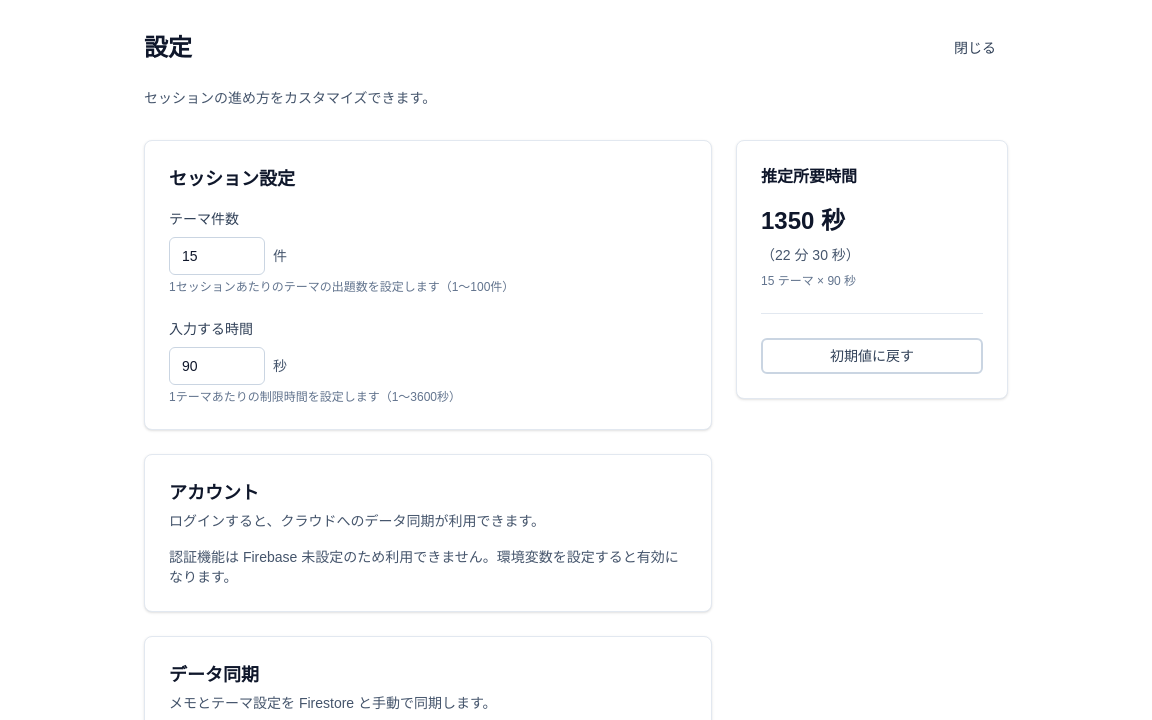
Test: SettingPage › onBlur update › displays update error when updateSettings fails
The image size is (1152, 720).
// 値を変更してblur
Replace the text in the number field labelled "テーマ件数" with "25" at (217, 256), box [169,237,265,275]
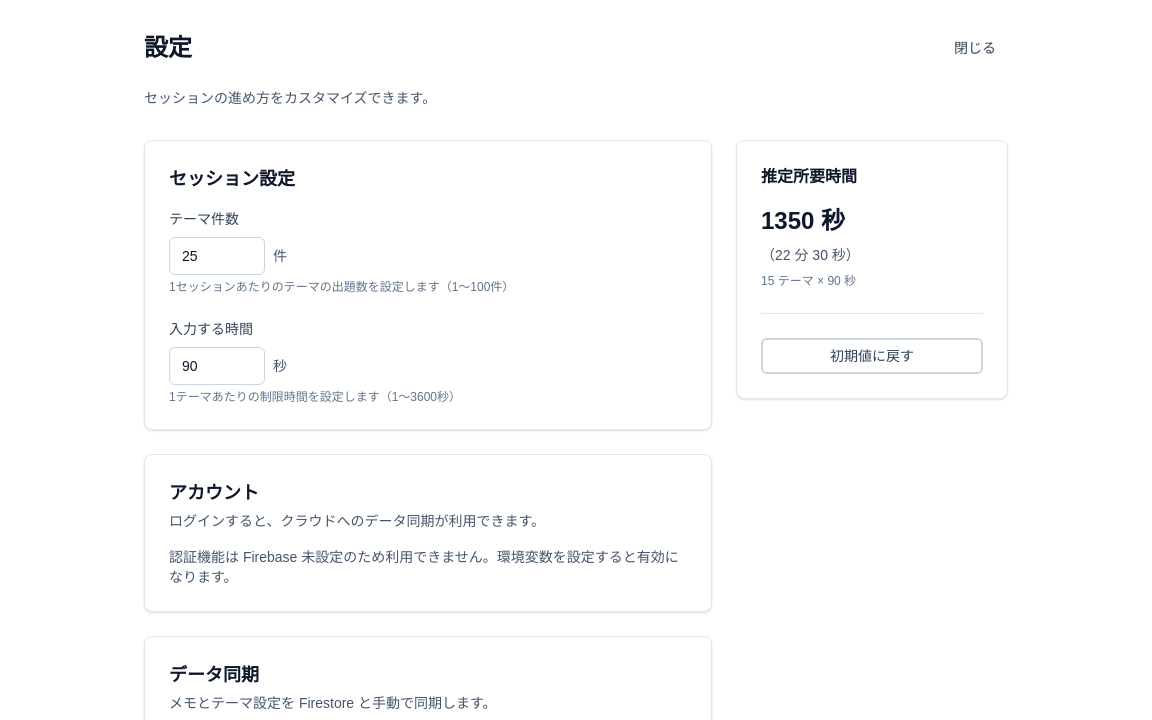
Leave the number field labelled "テーマ件数", box [169,237,265,275]
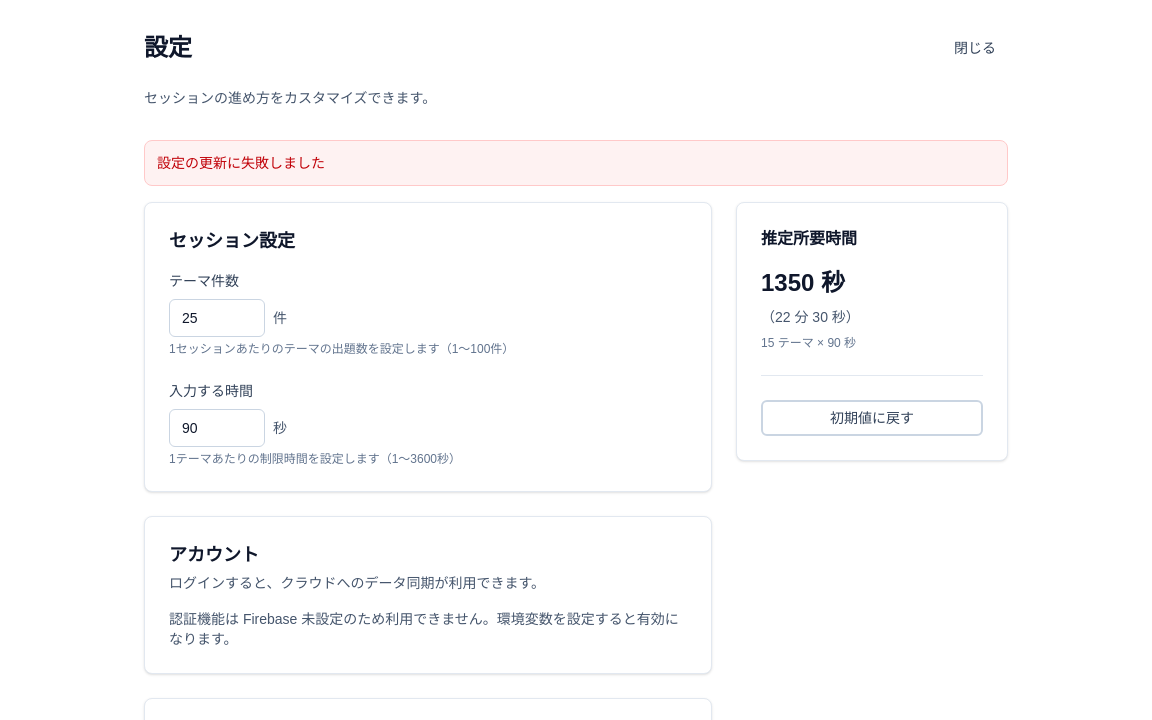
Now the text "設定の更新に失敗しました" is shown, box [157,155,325,171]
